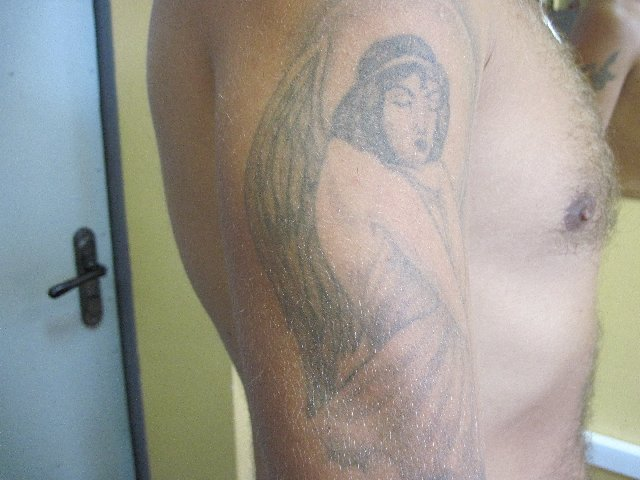tatu1_angel: (235, 19, 473, 415)
